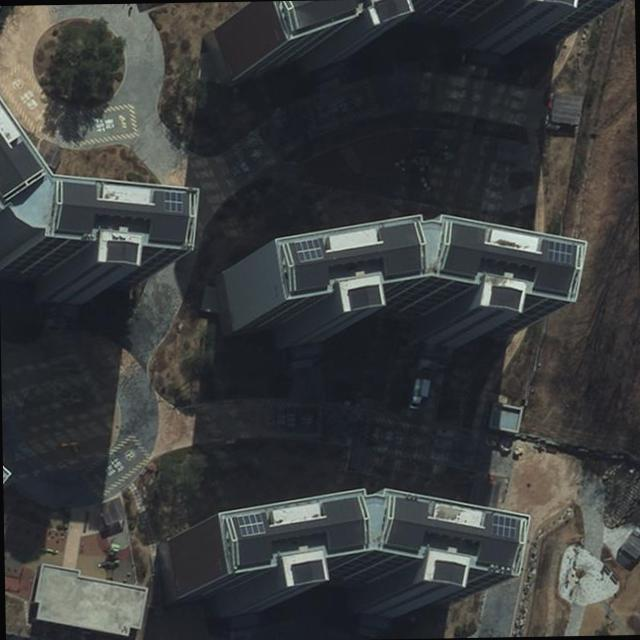solar: (293, 236, 328, 264), (236, 510, 266, 538), (488, 514, 518, 540), (546, 239, 574, 266), (163, 190, 184, 213)
